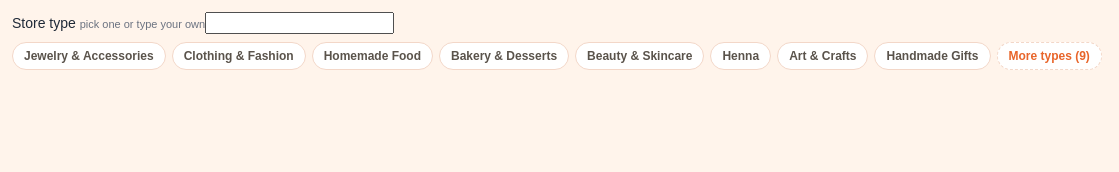
Test: CategoryField › fills the field when a suggestion is tapped and marks it selected
Click the button "Homemade Food". click: [372, 56]
box: [312,42,433,70]
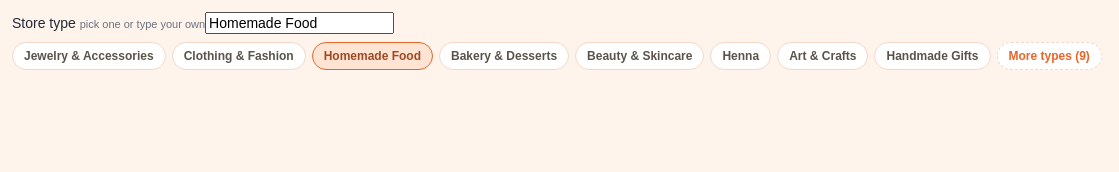
Result: the field labelled "Store type pick one or type your own" holds "Homemade Food" at [205,12,394,34]
